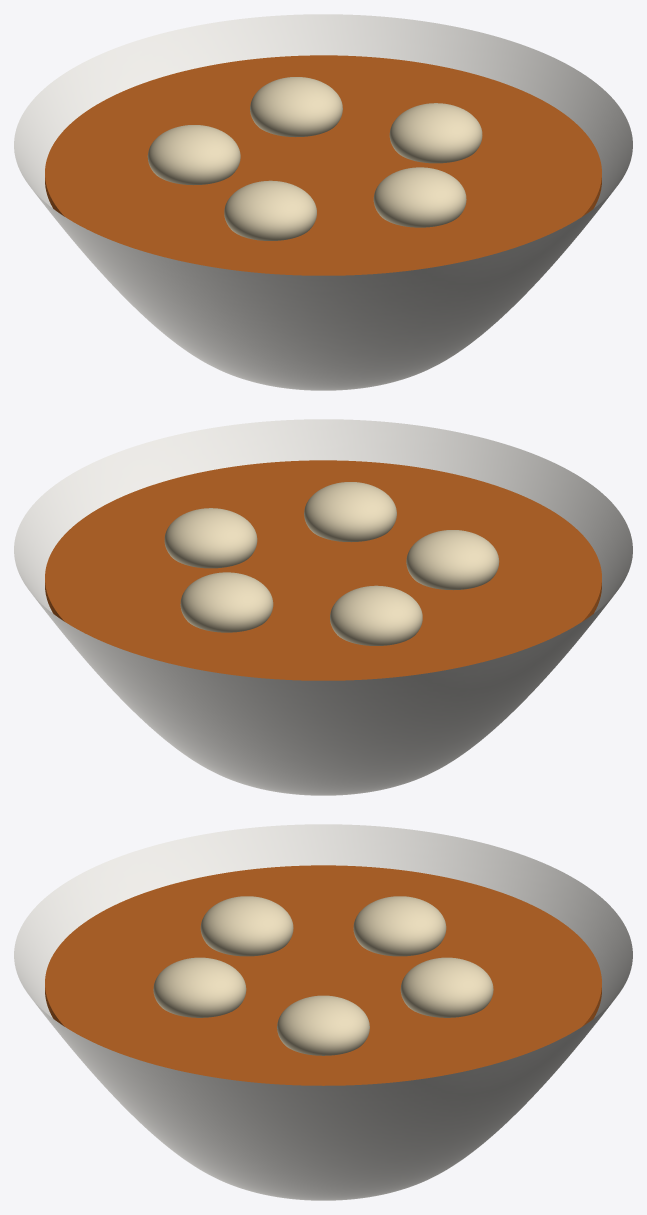
File: caldo-hero.glb
3 renders of one model, top to bottom at view 1: azimuth 30°, elevation 25°; view 2: azimuth 150°, elevation 25°; view 3: azimuth 270°, elevation 25°, orthographic.
Bounding box in the file's own units: 0.16 × 0.0572 × 0.16.
